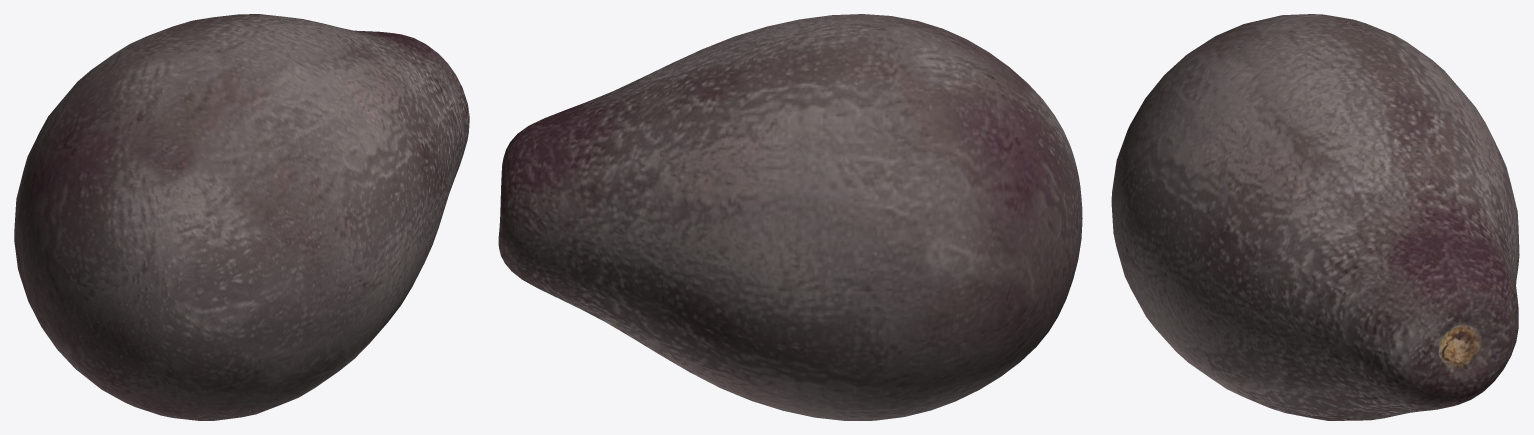
File: DarkBrownAvocadoPeel.obj
3 renders of one model, left to right at view 1: azimuth 30°, elevation 25°; view 2: azimuth 150°, elevation 25°; view 3: azimuth 270°, elevation 25°, orthographic. The views are drawn at different scales.
Parts seen in each view (by area): view 1: DarkBrownAvocadoPeel; view 2: DarkBrownAvocadoPeel; view 3: DarkBrownAvocadoPeel.
Boxes of the visible parts, x1,y1,x2,y2 form: DarkBrownAvocadoPeel: (14, 14, 469, 420); DarkBrownAvocadoPeel: (498, 14, 1082, 420); DarkBrownAvocadoPeel: (1111, 14, 1519, 420).
Bounding box in the file's own units: 0.1076 × 0.0772 × 0.0798.
Materials: 1 (1 with a texture image).
